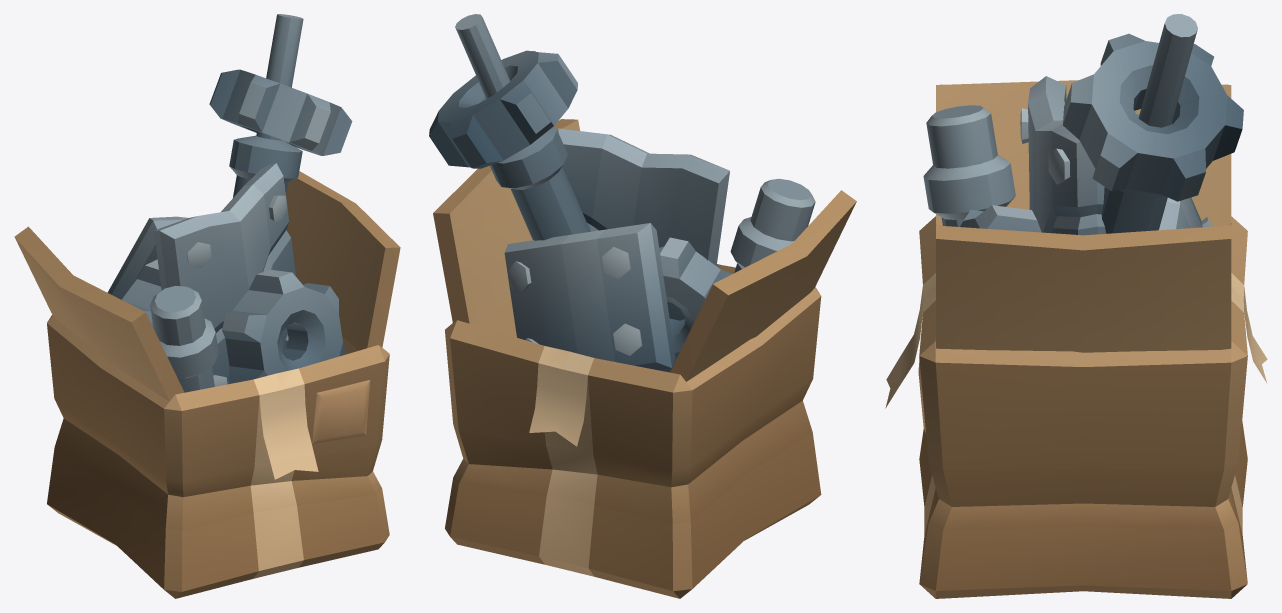
The model's file is parts_pile_medium.glb.
The picture shows the model from 3 angles, left to right: view 1: azimuth 30°, elevation 25°; view 2: azimuth 150°, elevation 25°; view 3: azimuth 270°, elevation 25°; orthographic projection. The views are drawn at different scales.
Visible parts, largest first — view 1: Parts_Pile_Medium; view 2: Parts_Pile_Medium; view 3: Parts_Pile_Medium.
Part boxes in pixels (bbox=[...]): Parts_Pile_Medium: bbox=[14, 14, 400, 598]; Parts_Pile_Medium: bbox=[429, 14, 856, 598]; Parts_Pile_Medium: bbox=[885, 14, 1267, 598].
Size of the model in its own units: 0.6091 by 0.8834 by 0.5236.
Materials: 1 (1 with a texture image).
